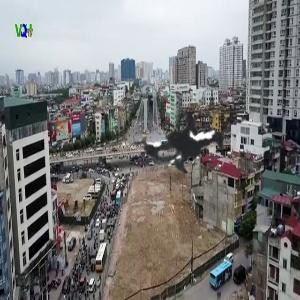drone: (57, 2, 288, 233)
